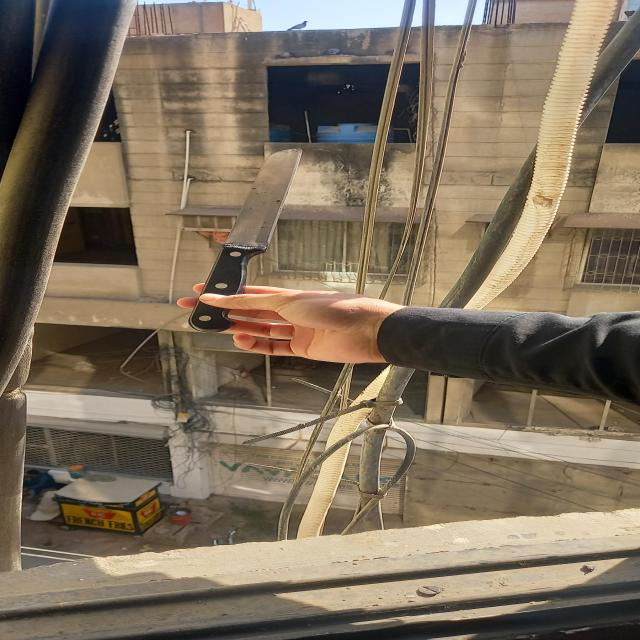Knife: (192, 149, 302, 331)
Person: (177, 282, 640, 406)
